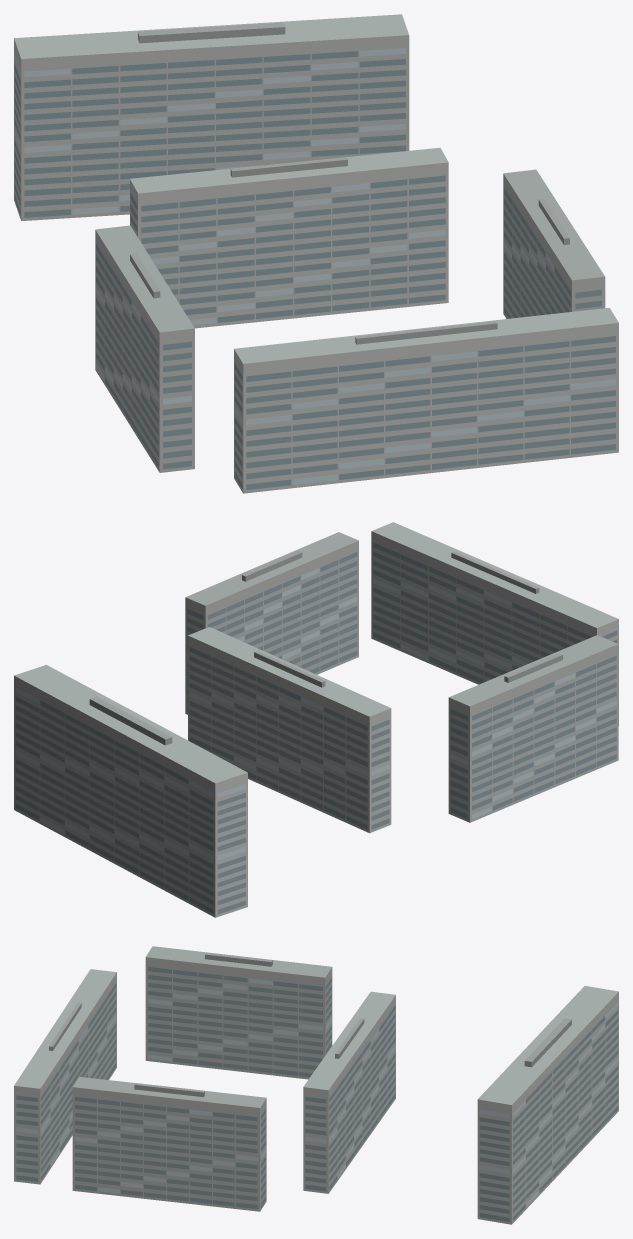
Rendered from apt-a13590602.glb.
3 renders of one model, top to bottom at view 1: azimuth 30°, elevation 25°; view 2: azimuth 150°, elevation 25°; view 3: azimuth 270°, elevation 25°, orthographic. The views are drawn at different scales.
Visible parts, largest first — view 1: apt-a13590602; view 2: apt-a13590602; view 3: apt-a13590602.
Part boxes in pixels (x1=…): apt-a13590602: x1=14, y1=14, x2=618, y2=493; apt-a13590602: x1=14, y1=522, x2=618, y2=917; apt-a13590602: x1=14, y1=946, x2=618, y2=1224.
Bounding box in the file's own units: 143 × 47.81 × 210.
